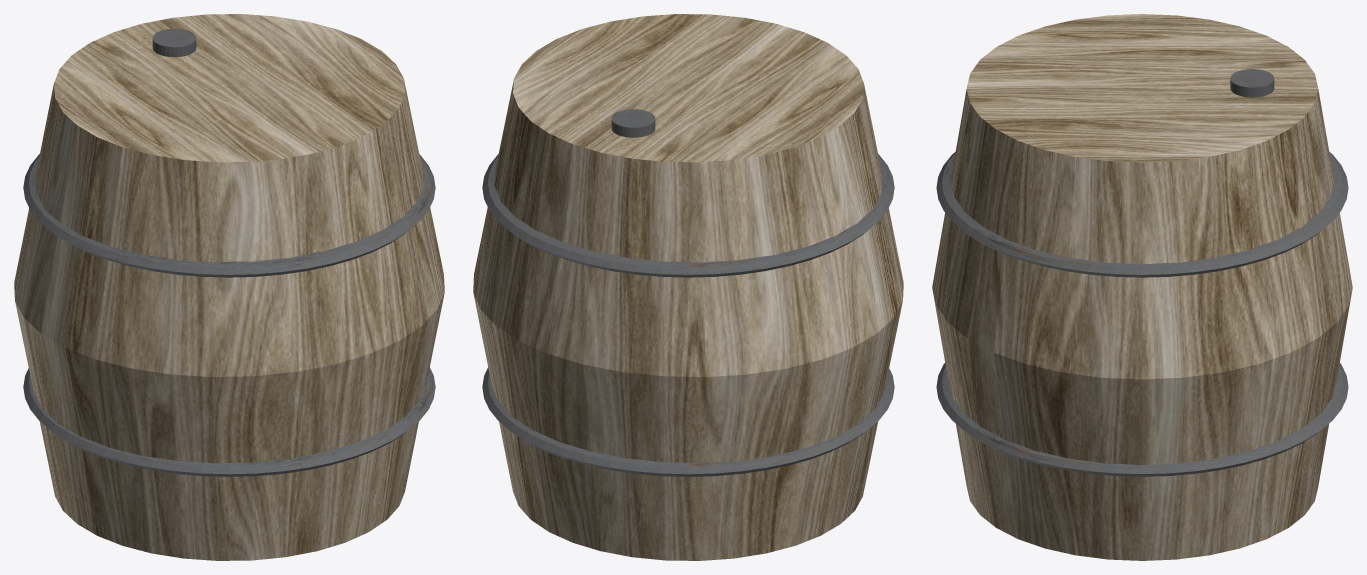
File: barrel.glb
The picture shows the model from 3 angles, left to right: view 1: azimuth 30°, elevation 25°; view 2: azimuth 150°, elevation 25°; view 3: azimuth 270°, elevation 25°; orthographic projection.
Bounding box in the file's own units: 1.98 × 2.05 × 1.91.
2 materials, 2 textured.
